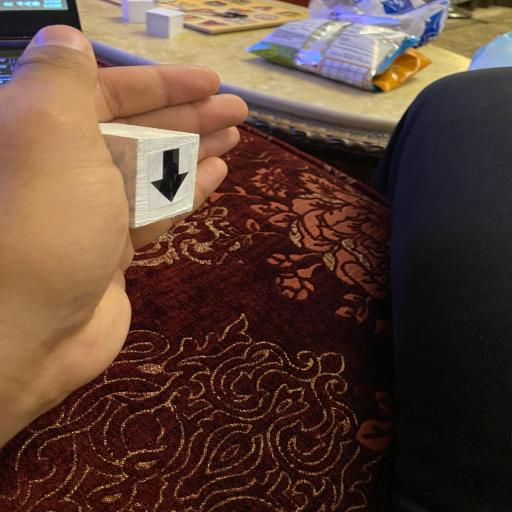Down: (99, 123, 201, 228)
